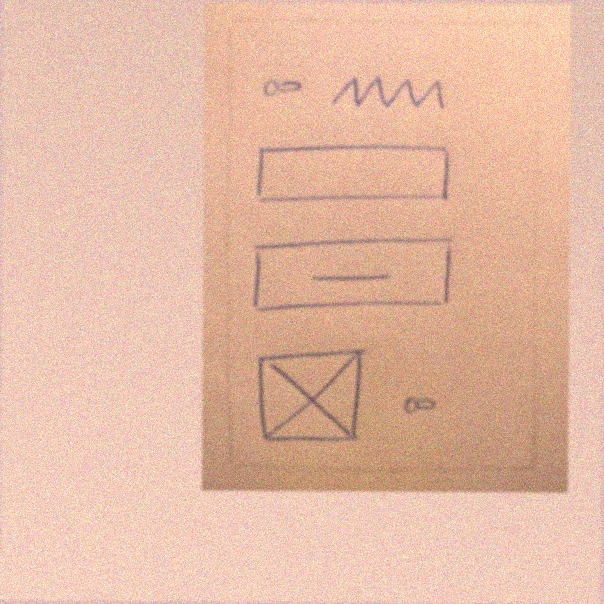button: (240, 230, 468, 316)
image: (247, 343, 374, 453)
switch: (256, 68, 307, 102), (397, 385, 442, 419)
text: (325, 65, 452, 117)
text_input: (250, 139, 459, 207)
